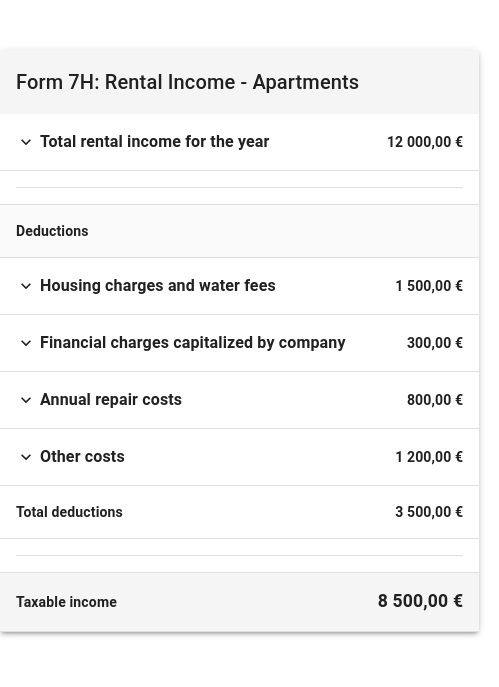
it: TaxBreakdown › groups expense types into correct 7H categories
The width and height of the screenshot is (499, 687).
// Expand "Other costs" - should contain insurance
Click the text "Other costs". click: (82, 457)
box: [40,445,125,469]
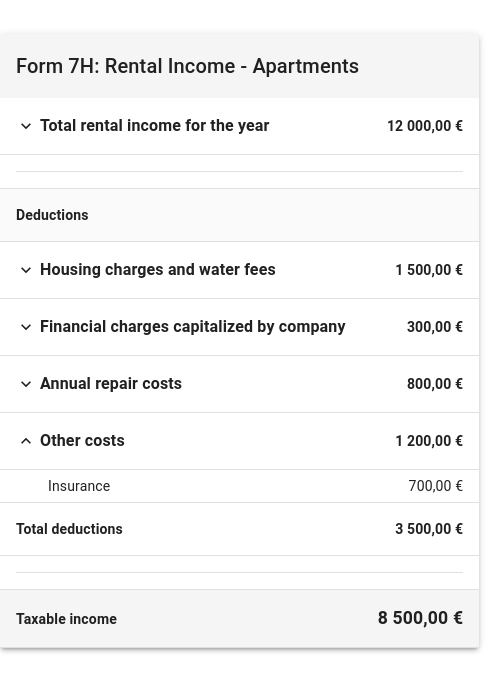
Expected: the text "Insurance" is shown, [0,470,284,502]
// Expand "Annual repair costs"
Click the text "Annual repair costs". click: (111, 384)
box: [40,372,182,396]
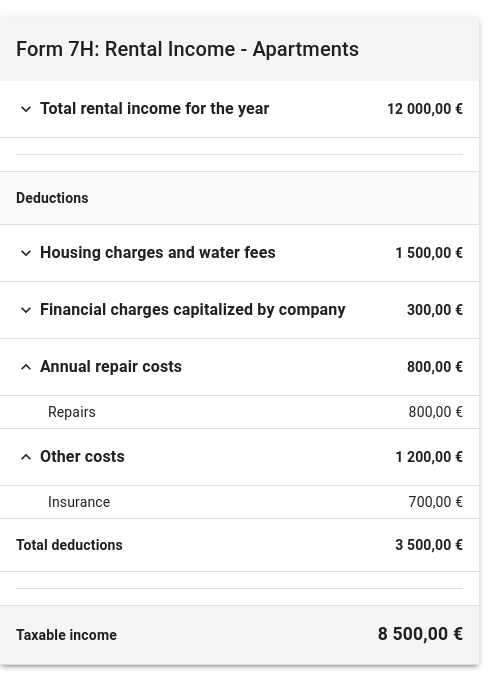
Expected: the text "Repairs" is shown, [0,396,270,429]
